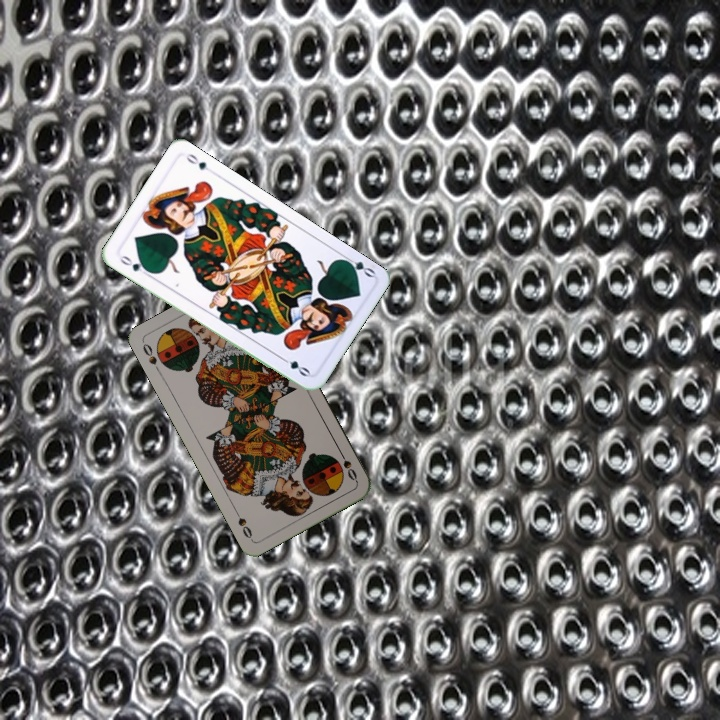GO: (338, 251, 377, 280), (116, 251, 153, 279)
SO: (335, 446, 360, 484), (139, 339, 164, 376)
